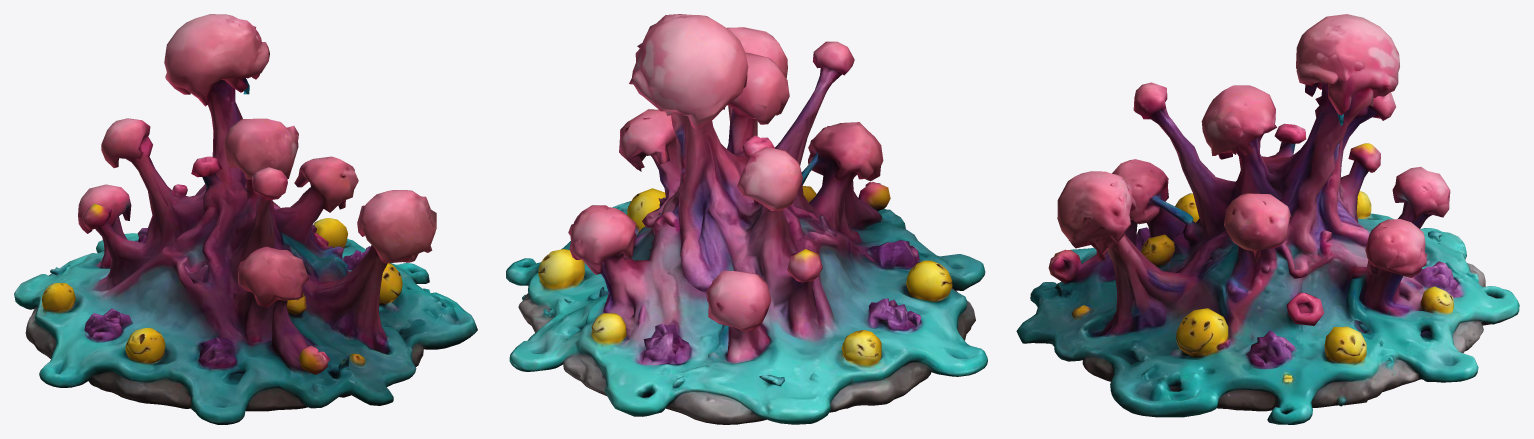
Rendered from corruption_mound.glb.
The picture shows the model from 3 angles, left to right: view 1: azimuth 30°, elevation 25°; view 2: azimuth 150°, elevation 25°; view 3: azimuth 270°, elevation 25°; orthographic projection. The views are drawn at different scales.
Visible parts, largest first — view 1: tripo_node_a0b3ffce-d53f-469e-849e-55914af30ac1; view 2: tripo_node_a0b3ffce-d53f-469e-849e-55914af30ac1; view 3: tripo_node_a0b3ffce-d53f-469e-849e-55914af30ac1.
Part boxes in pixels (x1,y1,x2,y2): tripo_node_a0b3ffce-d53f-469e-849e-55914af30ac1: [14, 14, 477, 424]; tripo_node_a0b3ffce-d53f-469e-849e-55914af30ac1: [506, 14, 987, 424]; tripo_node_a0b3ffce-d53f-469e-849e-55914af30ac1: [1016, 14, 1519, 424].
Size of the model in its own units: 3.18 by 2.2 by 3.2.
Materials: 1 (1 with a texture image).
